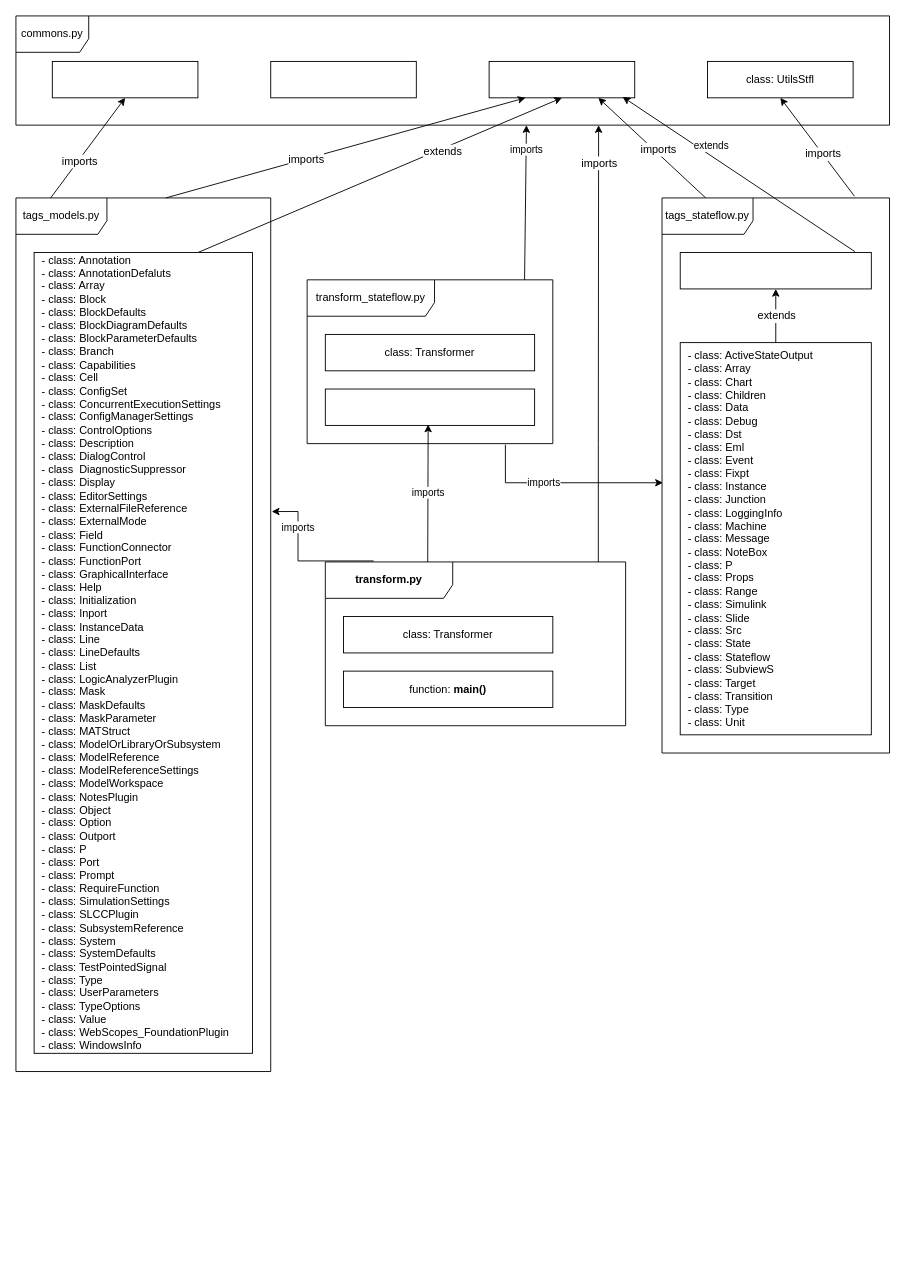
The diagram is 905 pixels wide and 1277 high, and some of its shapes have lost their labels. Here are the shapes that lost their labels. From the top down, the centre of each, then its label:
At [124,79]: "class: Utils".
At [343,79]: "class: XmlAttr".
At [561,79]: "class: XmlElement".
At [775,270]: "class: StflXmlElement".
At [429,406]: "function: stateflow_xml2mdl()".
